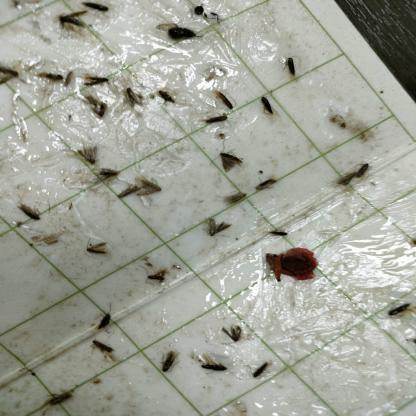prays_oleae: (368, 288, 416, 328), (340, 165, 382, 207), (193, 350, 231, 391), (132, 171, 170, 204), (210, 144, 248, 175), (46, 378, 78, 411), (57, 10, 90, 41), (88, 334, 117, 369), (216, 316, 247, 346), (36, 64, 66, 93), (83, 233, 108, 263), (203, 217, 234, 241), (11, 198, 42, 222), (132, 263, 172, 281), (258, 87, 278, 121), (252, 171, 278, 197), (223, 184, 249, 210), (75, 143, 101, 168), (98, 161, 121, 189), (282, 47, 299, 84), (247, 355, 269, 382), (162, 344, 179, 378), (118, 174, 136, 206), (213, 82, 234, 109), (121, 81, 143, 104), (92, 94, 110, 121), (62, 65, 76, 97), (84, 70, 110, 87)
